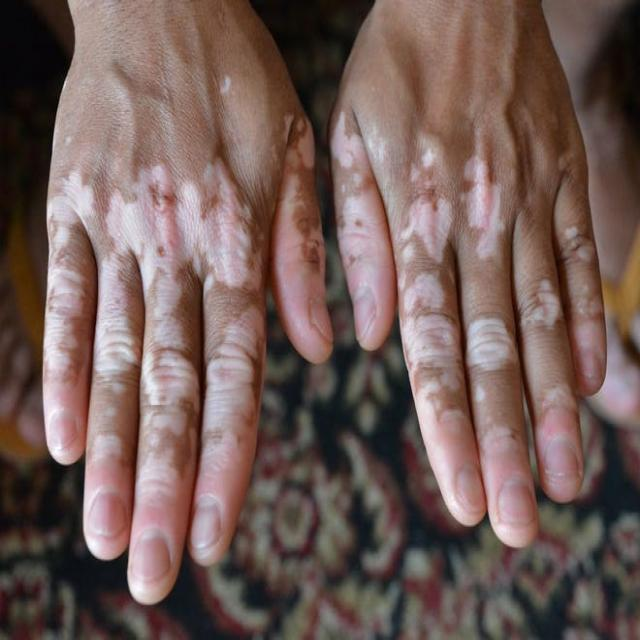vitiligo: (50, 76, 319, 583), (344, 61, 609, 508)
